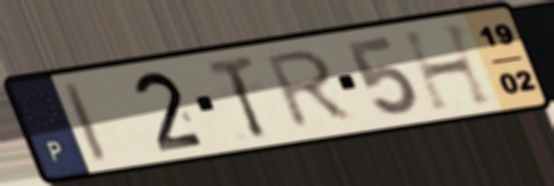2: (132, 68, 207, 154)
5: (341, 32, 423, 119)
H: (398, 19, 499, 115)
I: (59, 78, 112, 165)
R: (263, 45, 360, 134)
T: (201, 51, 270, 143)
